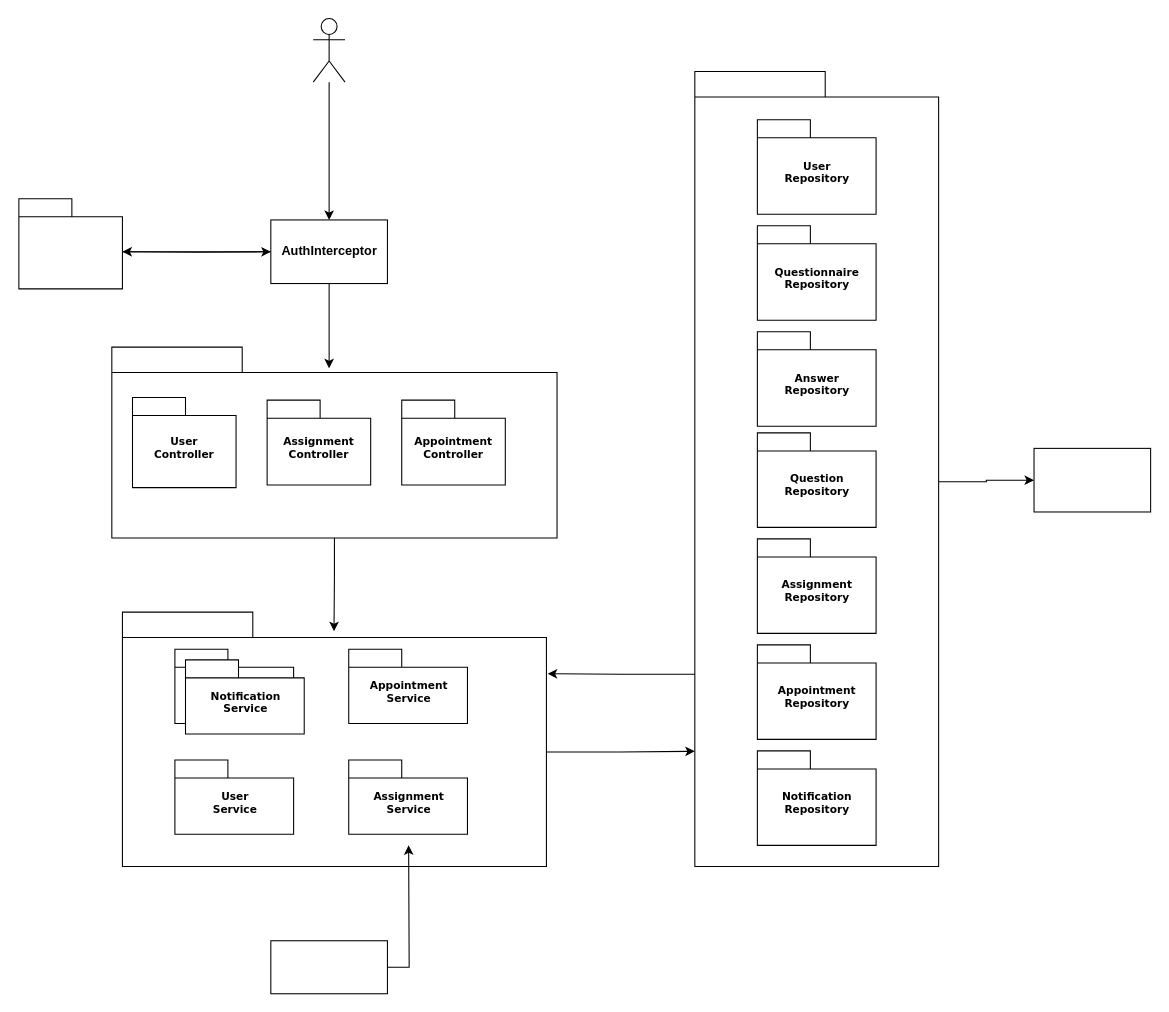
The diagram is 1169 pixels wide and 1012 high, and some of its shapes have lost their labels. The centre of each missing label's shape, as x and y in pixels:
Assignment Schedule: point 328,967
AuthService: point 70,243
Database: point 1092,479
